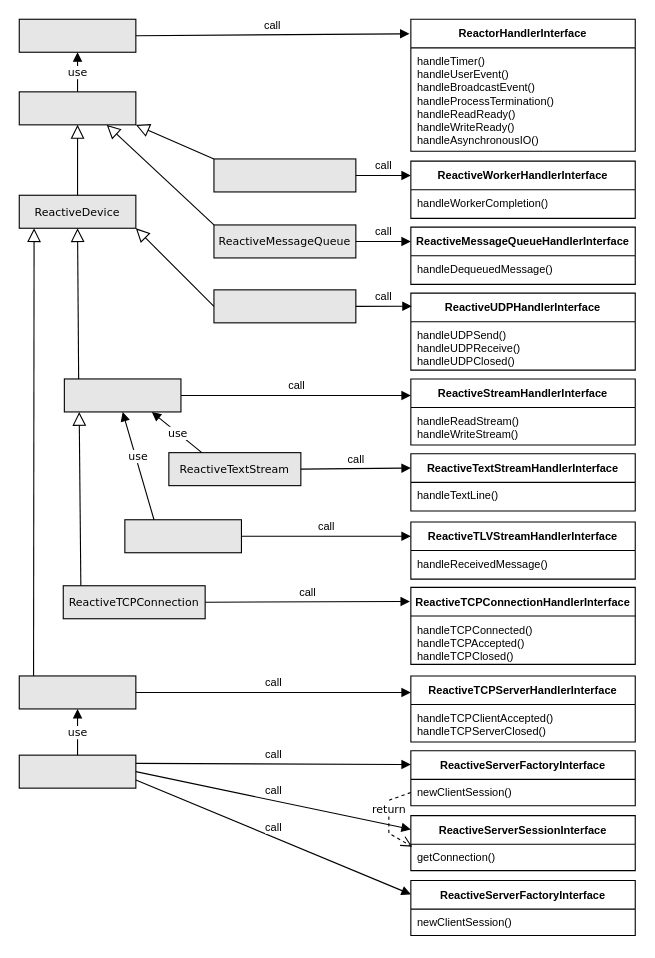
Image size: 655x958. Some labels were removed from this diagram. Each missing label, with the centre of its shape:
ReactiveBase: the point at 77,108
ReactiveServer: the point at 77,771
ReactiveStream: the point at 122,395
ReactiveTCPServer: the point at 77,692
ReactiveTLVStream: the point at 182,536
ReactiveUDPSocket: the point at 284,306
ReactiveWorkerPool: the point at 284,175
Reactor: the point at 77,35
